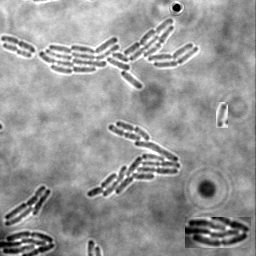Dividing: (1, 34, 37, 52), (3, 41, 33, 57)
Microcolony: (40, 18, 199, 89), (87, 120, 181, 197), (185, 217, 251, 248), (5, 184, 52, 226), (1, 230, 56, 255)
Rod: (216, 102, 228, 128)
